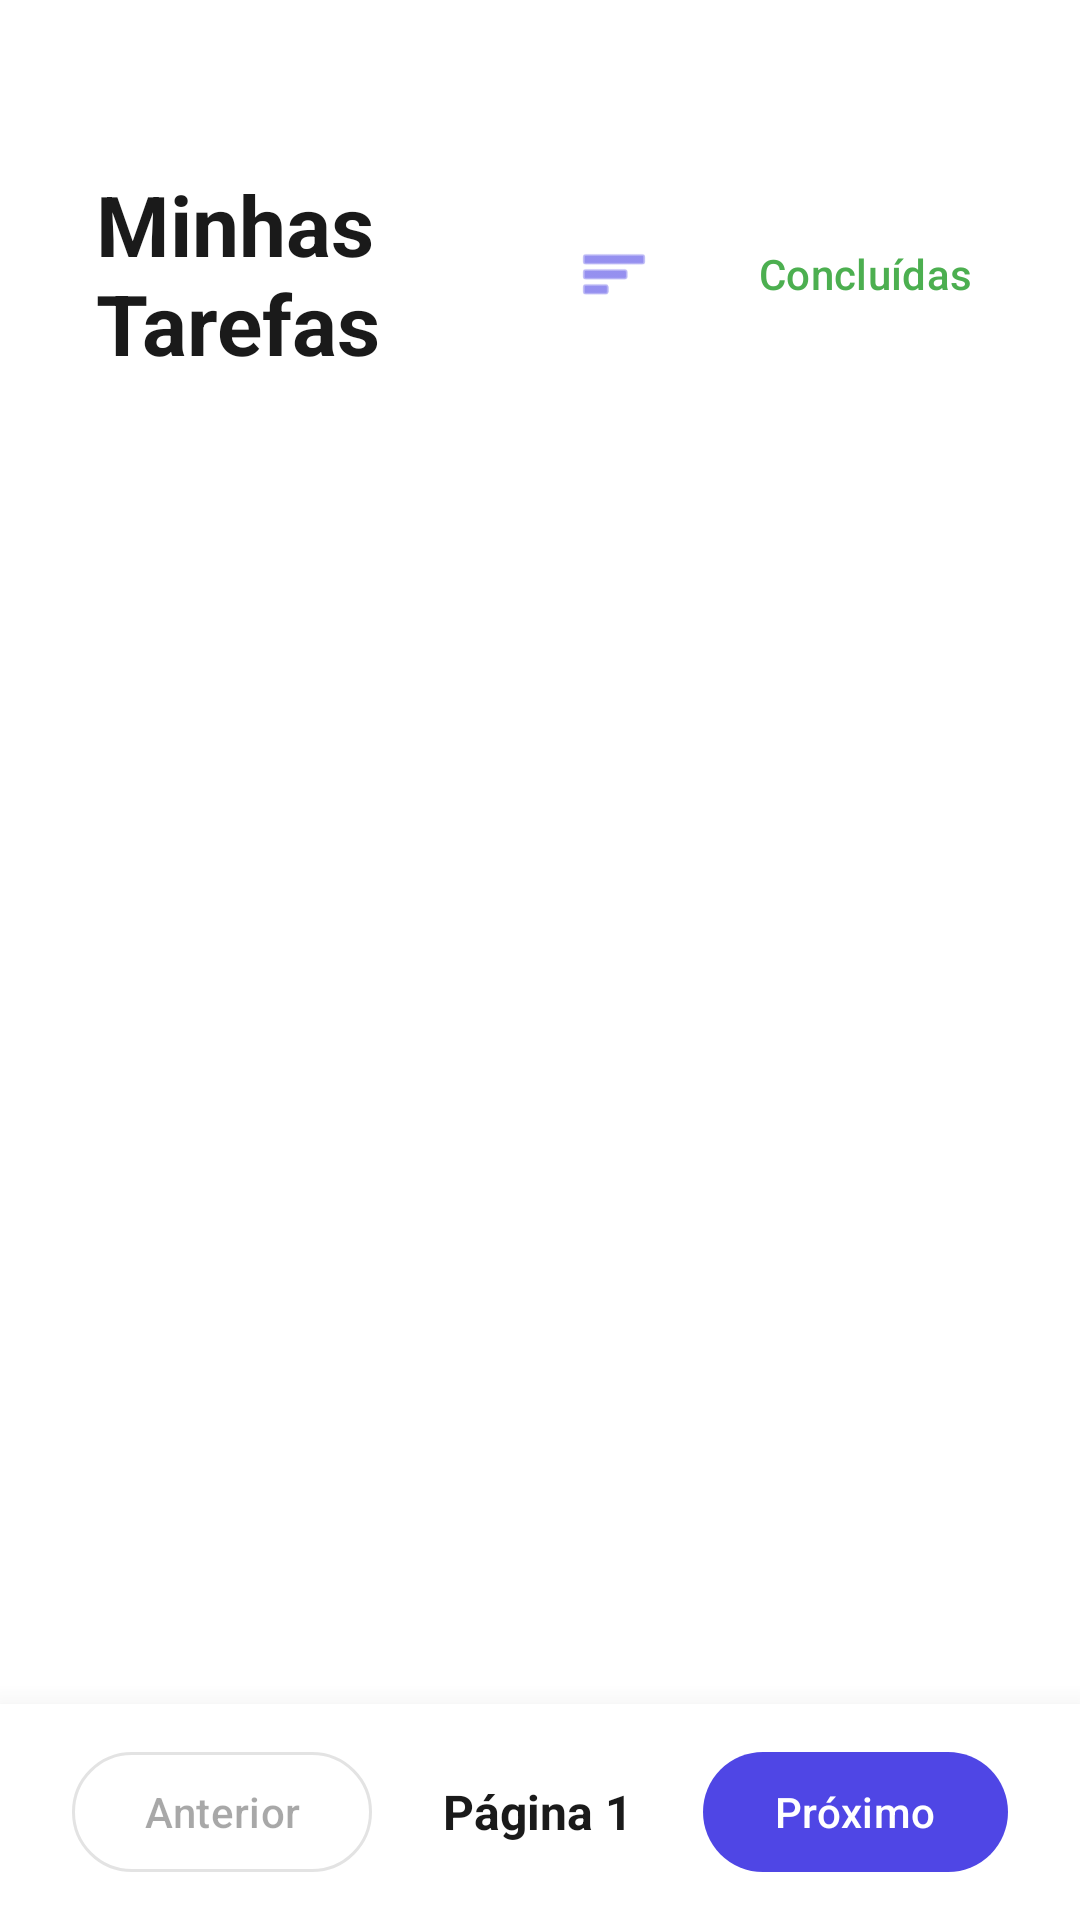

Icon click points for this 1080*1920 phone screenshot, format (x,y):
Ordenar lista por mais recentes: (614,274)
